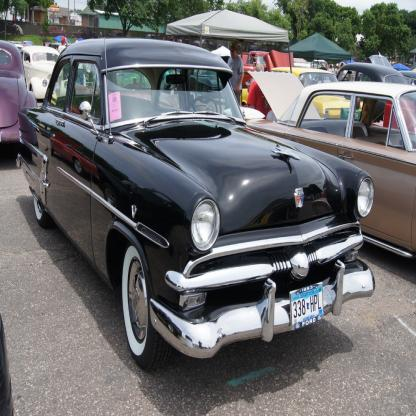Car: (24, 49, 382, 377)
